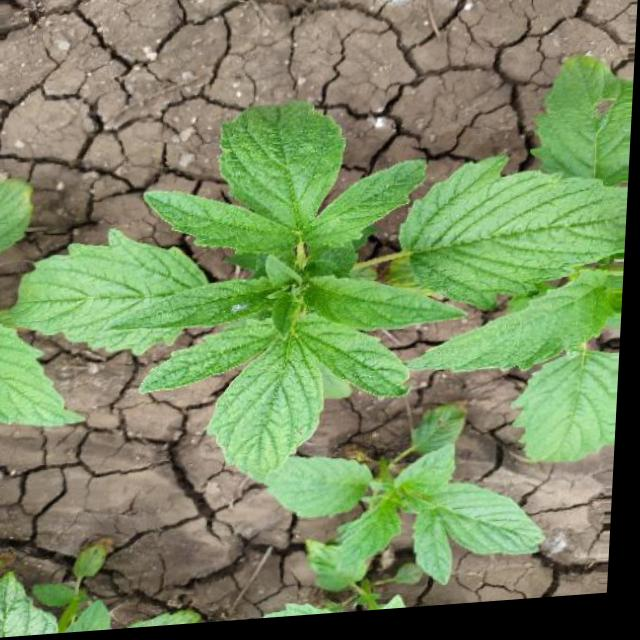crop: (0, 41, 637, 492), (230, 424, 577, 625)
